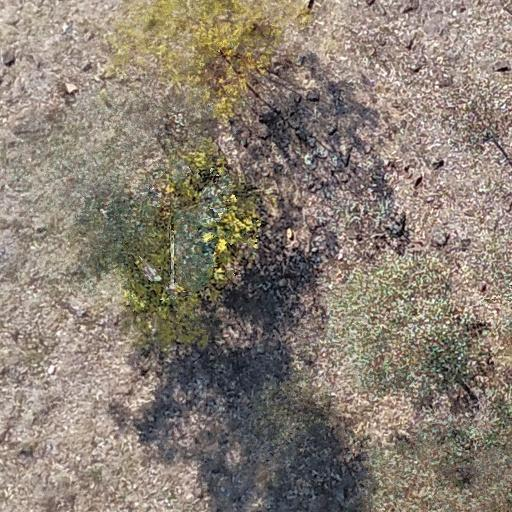stone: (426, 156, 446, 172), (3, 49, 16, 67), (435, 233, 450, 247), (63, 81, 79, 94), (401, 2, 417, 14), (306, 90, 320, 102), (460, 237, 472, 251), (405, 37, 415, 51), (82, 61, 93, 73), (46, 364, 57, 376), (495, 65, 511, 73), (414, 175, 423, 189), (411, 64, 423, 74), (328, 124, 338, 136), (310, 244, 320, 254), (480, 283, 488, 293)
